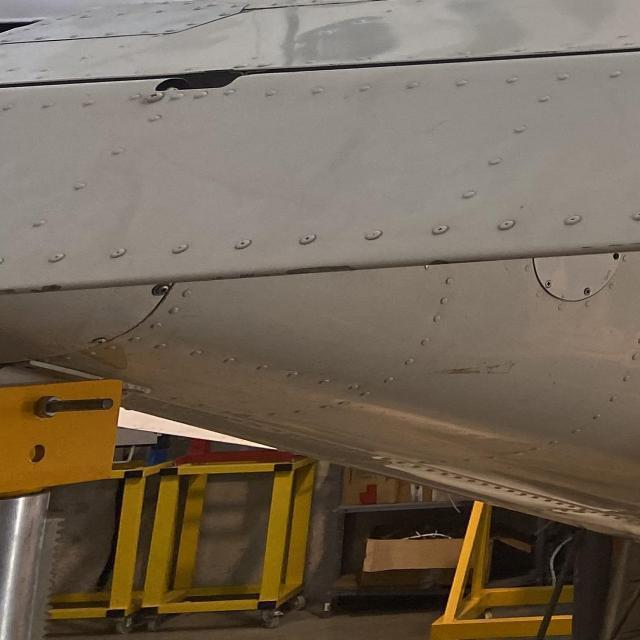Crack: (196, 68, 238, 74), (518, 49, 568, 54)
Missing-head: (612, 253, 619, 260)
Paint-off: (284, 263, 354, 278), (28, 282, 65, 294), (429, 260, 451, 264)
